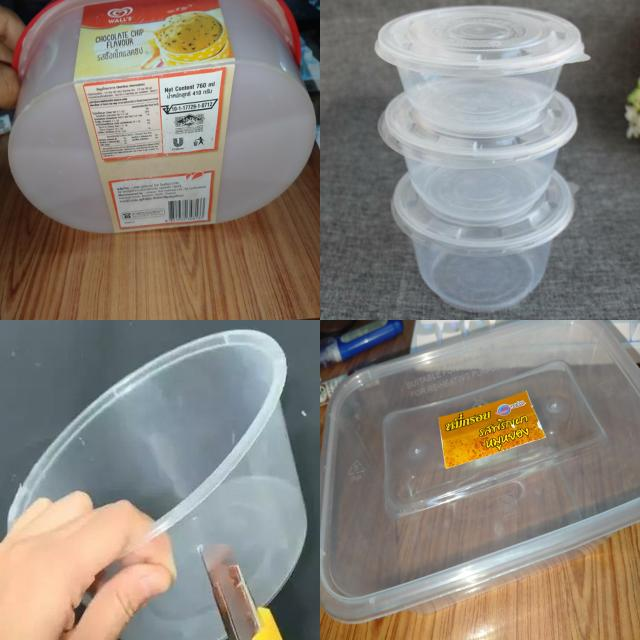Single-Use-Plastic: (321, 321, 640, 622), (9, 330, 308, 639), (9, 0, 315, 232), (375, 6, 590, 138), (379, 91, 578, 224), (391, 171, 574, 312)
